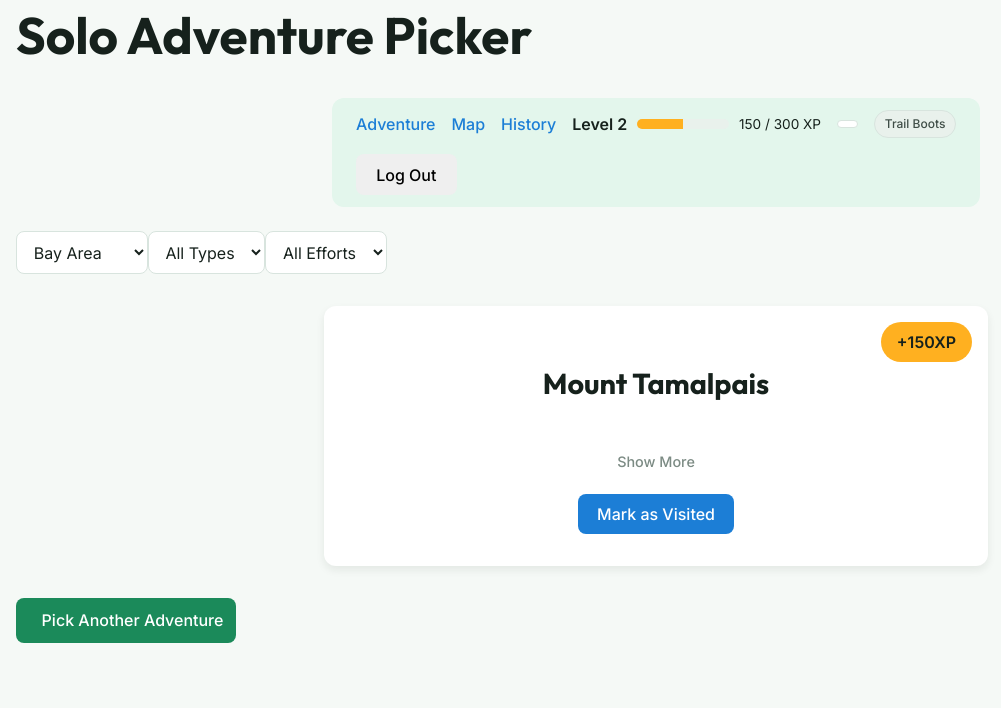
Scenario: AdventurePage › marks an adventure as visited and shows a confirmation
The image size is (1001, 708).
expect the heading "Mount Tamalpais" is shown: met, box [543,365,769,401]
Click the button "Mark as Visited": {"x": 656, "y": 514} [578,494,734,534]
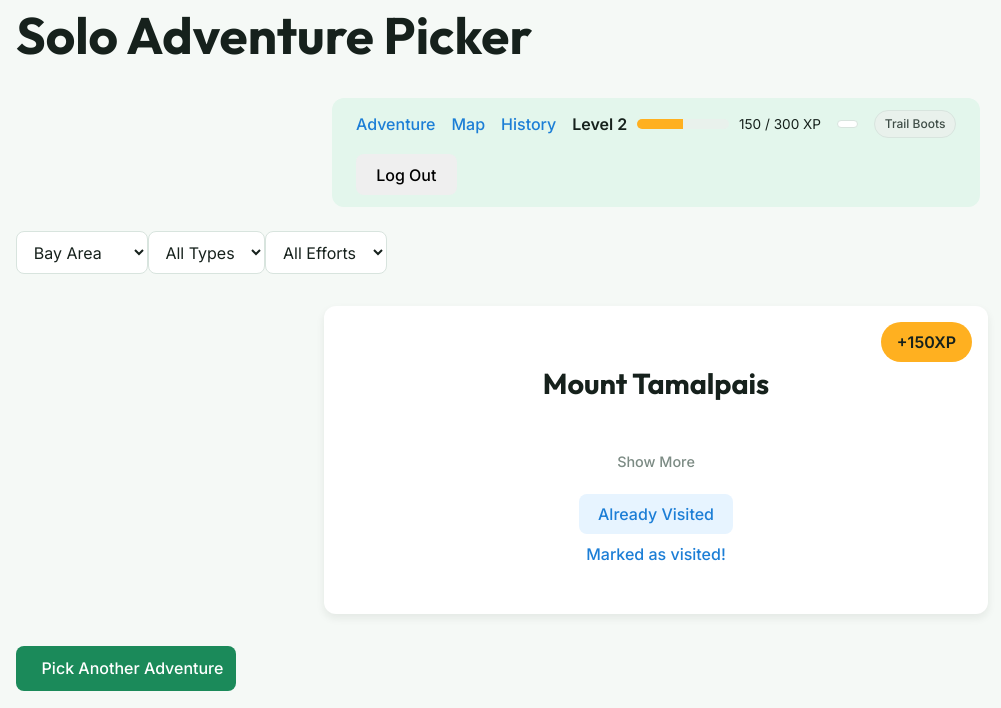
expect the text "Marked as visited!" is shown: met, box [586,544,726,564]
